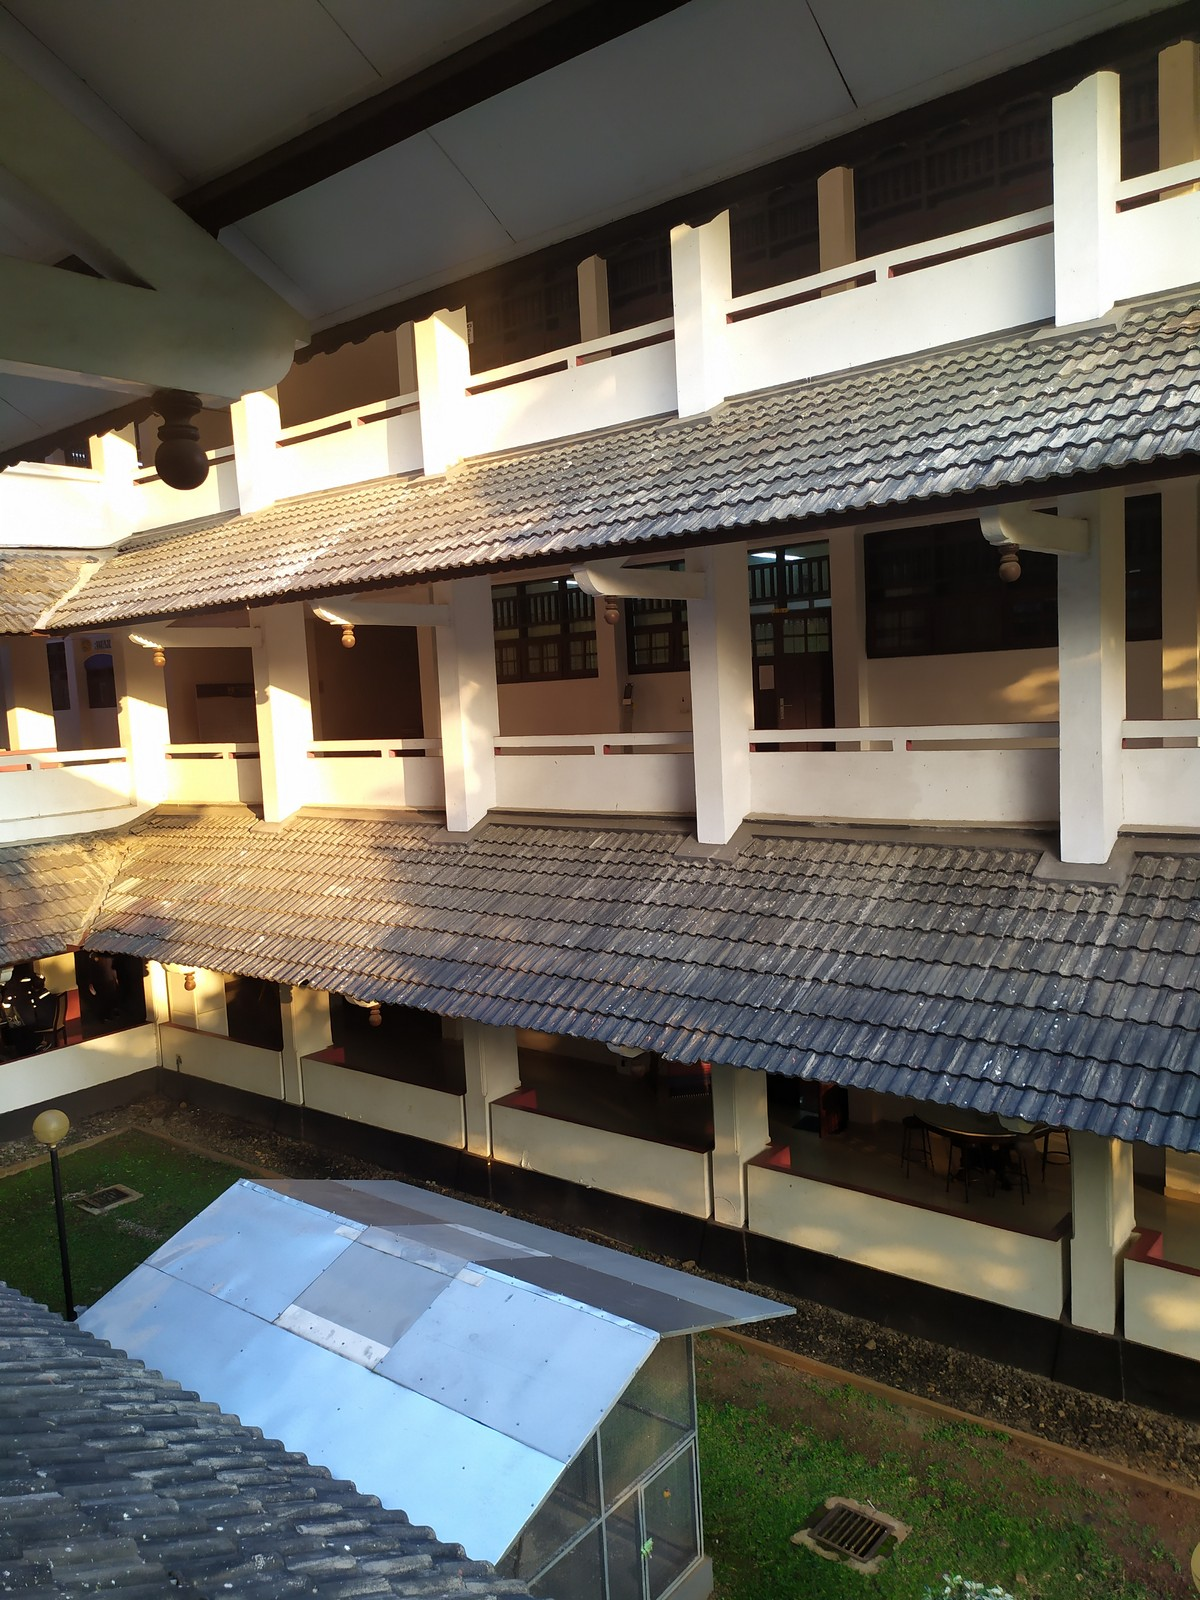concrete column: (1046, 496, 1139, 866), (679, 553, 765, 850), (1041, 84, 1136, 338), (429, 588, 511, 829), (661, 224, 747, 420), (242, 615, 320, 821), (406, 312, 487, 481)
